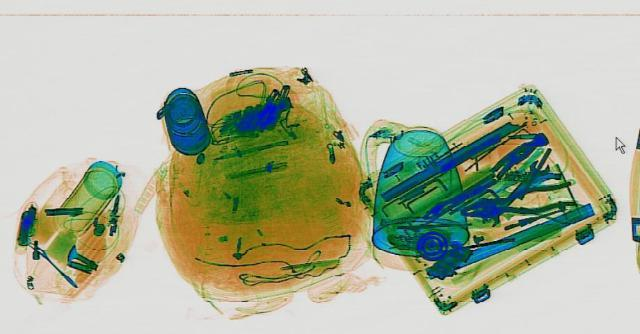Pliers: (450, 178, 582, 221)
Wrench: (474, 159, 554, 225)
